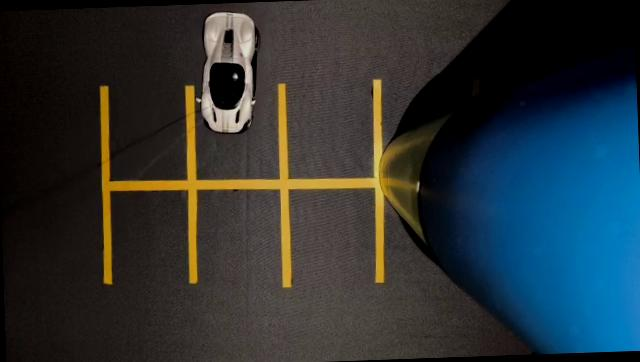toy_car: (178, 1, 284, 150)
